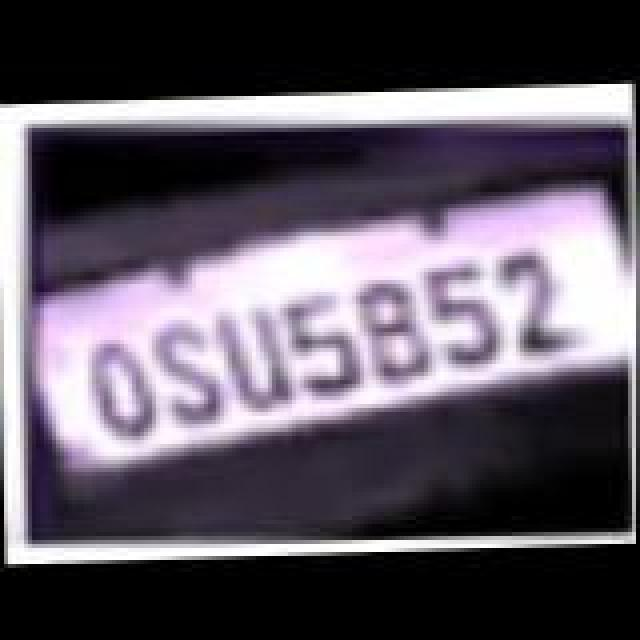2: (482, 236, 594, 356)
5: (408, 244, 516, 368), (268, 280, 376, 400)
B: (338, 266, 442, 386)
O: (76, 324, 172, 440)
S: (140, 308, 244, 428)
U: (204, 296, 308, 412)
